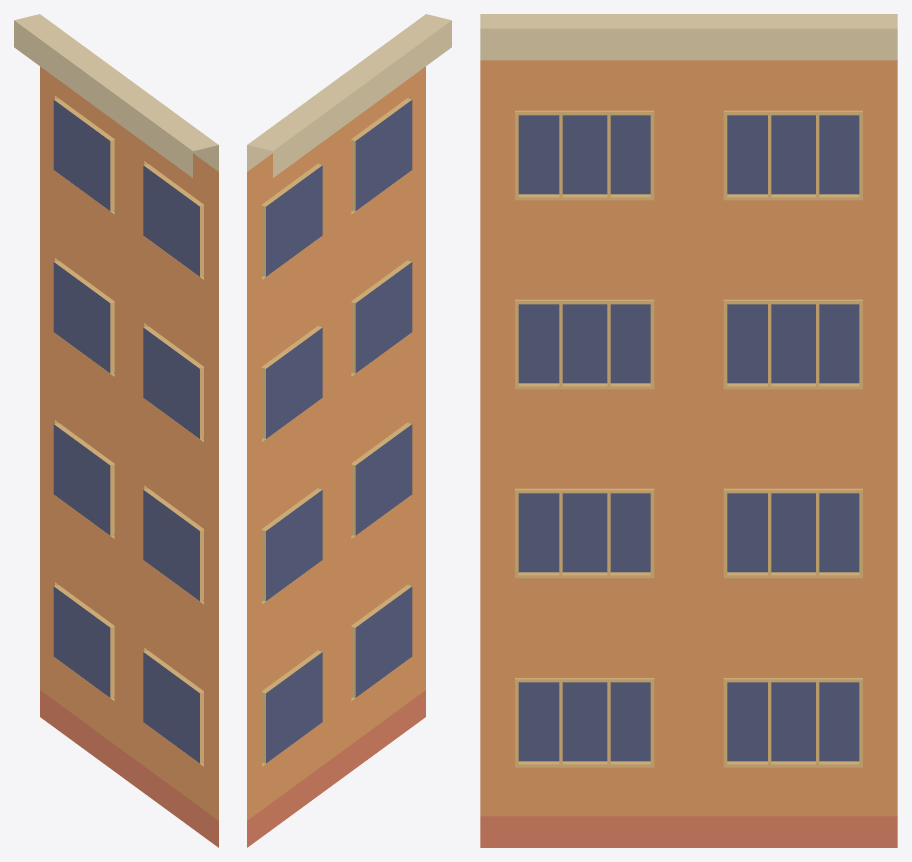
The model's file is apartment_windows.glb.
3 views of the same model, side by side, from view 1: azimuth 30°, elevation 25°; view 2: azimuth 150°, elevation 25°; view 3: azimuth 270°, elevation 25° (orthographic). The views are drawn at different scales.
Visible parts, largest first — view 1: Cube; view 2: Cube; view 3: Cube.
Part boxes in pixels (x1=…): Cube: x1=14, y1=14, x2=218, y2=847; Cube: x1=247, y1=14, x2=451, y2=847; Cube: x1=480, y1=14, x2=897, y2=847.
Size of the model in its own units: 0.55 by 13 by 6.
1 material, 1 textured.
